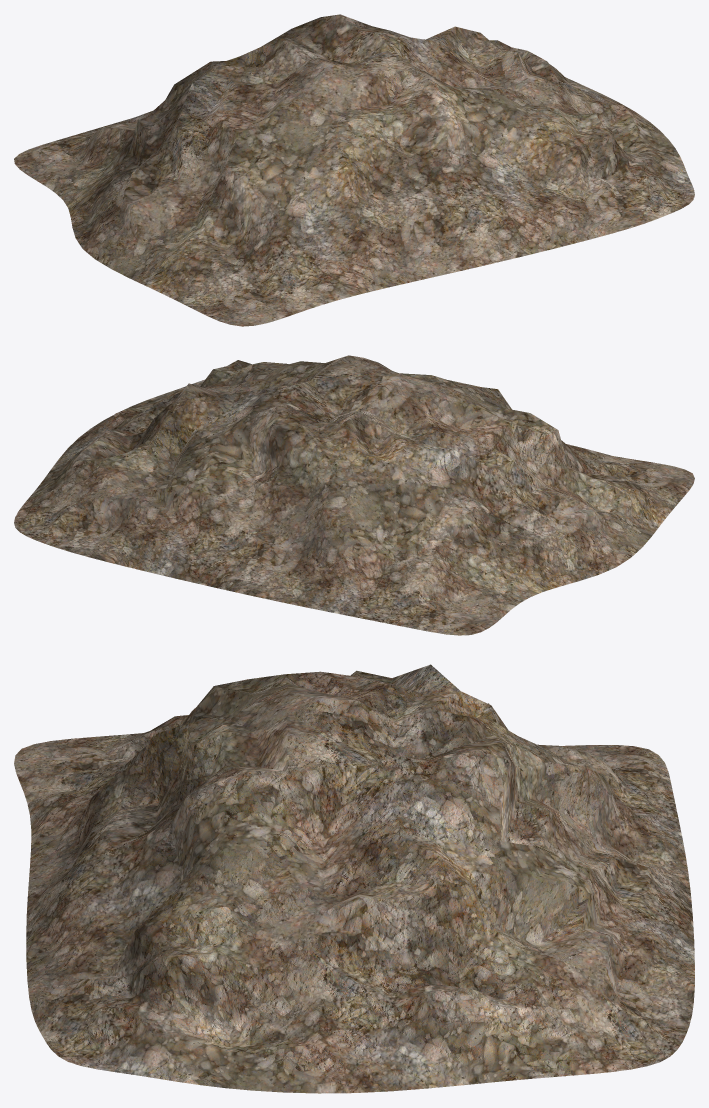
The model's file is Ruins_Rubble_Pile_01.fbx.
3 renders of one model, top to bottom at view 1: azimuth 30°, elevation 25°; view 2: azimuth 150°, elevation 25°; view 3: azimuth 270°, elevation 25°, orthographic. The views are drawn at different scales.
Visible parts, largest first — view 1: Ruins_Rubble_Pile_01; view 2: Ruins_Rubble_Pile_01; view 3: Ruins_Rubble_Pile_01.
Boxes of the visible parts, x1,y1,x2,y2 form: Ruins_Rubble_Pile_01: [14, 14, 694, 326]; Ruins_Rubble_Pile_01: [14, 355, 694, 635]; Ruins_Rubble_Pile_01: [14, 664, 694, 1093].
Size of the model in its own units: 7.81 by 1.78 by 6.03.
1 material, 1 textured.
